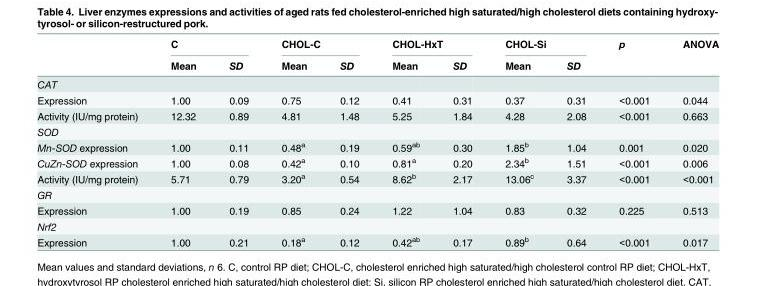table: (36, 37, 718, 247)
table column: (36, 37, 153, 247), (601, 37, 665, 247), (488, 37, 549, 247), (375, 37, 435, 247), (153, 37, 212, 247), (264, 37, 322, 247), (322, 37, 375, 247), (435, 37, 488, 247), (665, 37, 718, 247), (212, 37, 264, 247), (549, 37, 601, 247)
table column header: (36, 37, 718, 74)
table projected row header: (36, 74, 718, 92), (36, 186, 718, 202), (36, 123, 718, 138), (36, 218, 718, 233)
table row: (36, 54, 718, 74), (36, 74, 718, 92), (36, 37, 718, 54), (36, 107, 718, 123), (36, 138, 718, 154), (36, 154, 718, 170), (36, 170, 718, 186), (36, 186, 718, 202), (36, 202, 718, 218), (36, 92, 718, 107), (36, 123, 718, 138), (36, 218, 718, 233), (36, 233, 718, 247)
table spanning cell: (601, 37, 665, 74), (665, 37, 718, 74), (375, 37, 488, 54), (488, 37, 601, 54), (153, 37, 264, 54), (264, 37, 375, 54)
